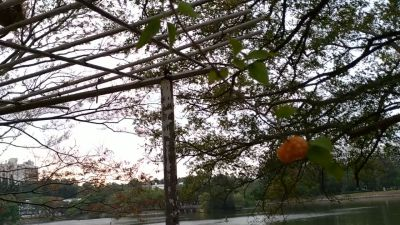eggs: (278, 135, 310, 163)
